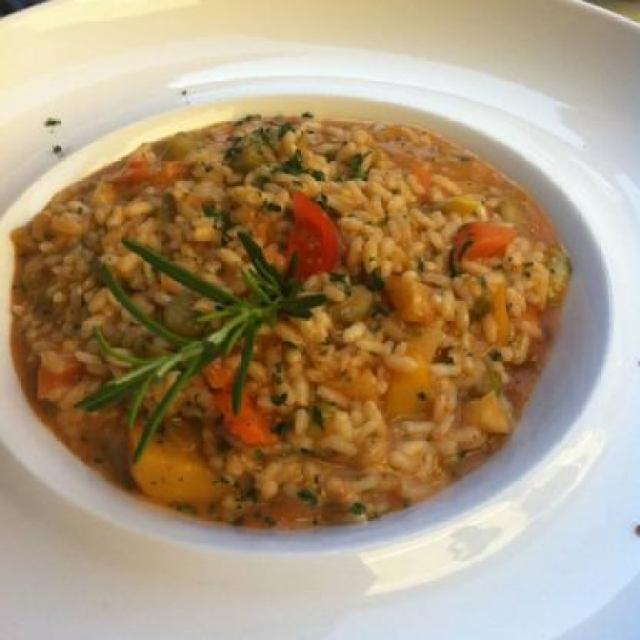Risotto: (16, 128, 589, 524)
